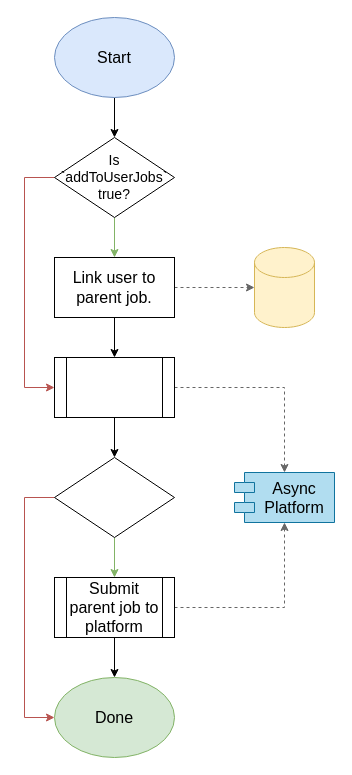
The diagram is 352 pixels wide and 775 high, and some of its shapes have lost their labels. The centre of each missing label's shape, as x and y in pixels:
Is job status "expired"?: [114,497]
Lookup job in platform: [114,387]
User DB: [284,287]
